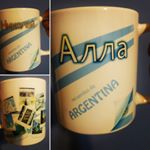cups: (51, 6, 150, 137), (1, 5, 48, 73)
